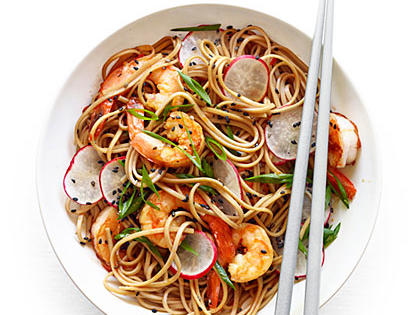Soba: (70, 18, 351, 315)
